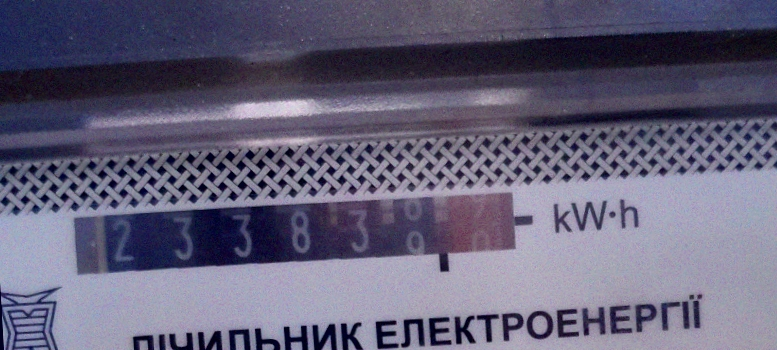0: (469, 227, 492, 254)
2: (110, 216, 136, 264)
3: (225, 209, 257, 260), (167, 212, 198, 262), (345, 206, 371, 253)
8: (285, 208, 314, 255), (401, 195, 425, 223)
9: (466, 190, 490, 221), (403, 227, 426, 257)
screen: (61, 180, 538, 296)
